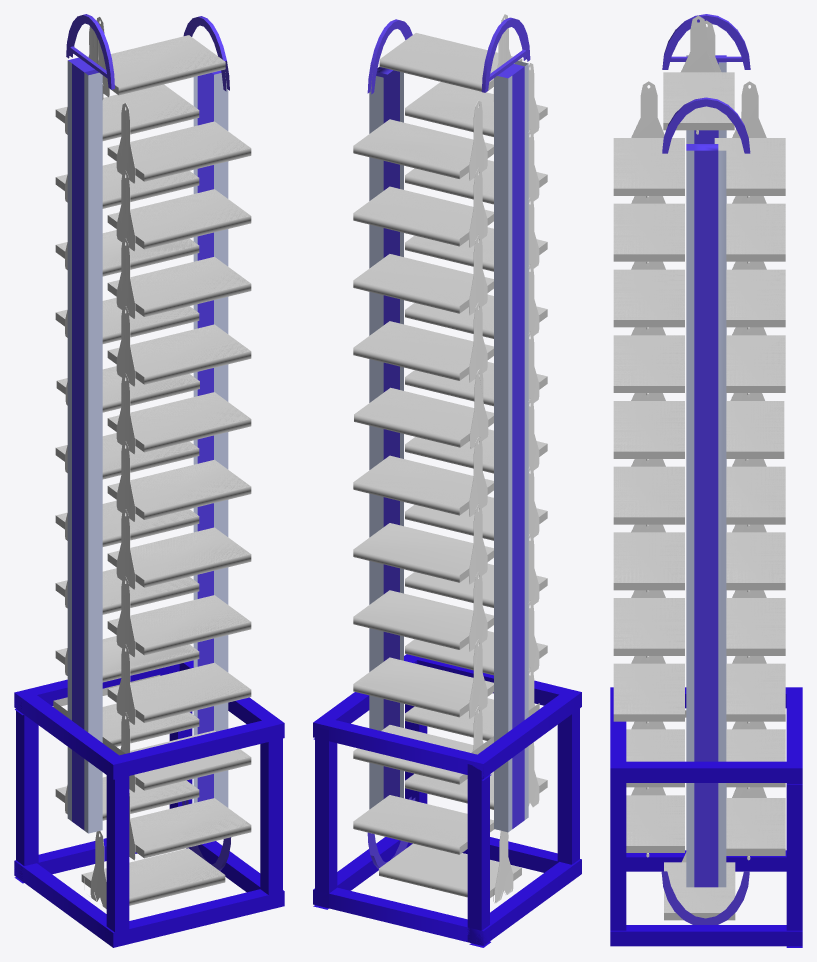
File: 3155_Tower.fbx
3 renders of one model, left to right at view 1: azimuth 30°, elevation 25°; view 2: azimuth 150°, elevation 25°; view 3: azimuth 270°, elevation 25°, orthographic. The views are drawn at different scales.
Parts seen in each view (by area): view 1: STRUCT, SHLF14, SHLF17, SHLF20, SHLF15, SHLF18, SHLF21, SHLF19, SHLF22, SHLF16, SHLF24, SHLF13 (+13 smaller); view 2: STRUCT, SHLF6, SHLF11, SHLF5, SHLF12, SHLF4, SHLF7, SHLF10, SHLF9, SHLF8, SHLF2, SHLF1 (+13 smaller); view 3: STRUCT, SHLF14, SHLF13, SHLF12, SHLF20, SHLF16, SHLF15, SHLF19, SHLF22, SHLF21, SHLF17, SHLF18 (+13 smaller).
Part boxes in pixels (x1=…): STRUCT: x1=14, y1=14, x2=284, y2=947; SHLF14: x1=107, y1=103, x2=251, y2=183; SHLF17: x1=107, y1=306, x2=251, y2=386; SHLF20: x1=107, y1=509, x2=251, y2=589; SHLF15: x1=107, y1=170, x2=251, y2=251; SHLF18: x1=107, y1=373, x2=251, y2=454; SHLF21: x1=107, y1=576, x2=251, y2=657; SHLF19: x1=107, y1=441, x2=251, y2=521; SHLF22: x1=107, y1=644, x2=251, y2=724; SHLF16: x1=107, y1=238, x2=251, y2=318; SHLF24: x1=129, y1=789, x2=251, y2=860; SHLF13: x1=96, y1=16, x2=225, y2=97; STRUCT: x1=313, y1=17, x2=581, y2=947; SHLF6: x1=353, y1=504, x2=493, y2=583; SHLF11: x1=353, y1=168, x2=493, y2=247; SHLF5: x1=353, y1=571, x2=493, y2=651; SHLF12: x1=353, y1=100, x2=493, y2=180; SHLF4: x1=353, y1=639, x2=493, y2=718; SHLF7: x1=353, y1=437, x2=493, y2=516; SHLF10: x1=353, y1=235, x2=493, y2=314; SHLF9: x1=353, y1=302, x2=493, y2=382; SHLF8: x1=354, y1=369, x2=493, y2=448; SHLF2: x1=353, y1=795, x2=494, y2=854; SHLF1: x1=379, y1=830, x2=521, y2=902; STRUCT: x1=610, y1=14, x2=802, y2=947; SHLF14: x1=613, y1=81, x2=684, y2=200; SHLF13: x1=663, y1=15, x2=734, y2=134; SHLF12: x1=714, y1=81, x2=785, y2=200; SHLF20: x1=613, y1=524, x2=684, y2=594; SHLF16: x1=613, y1=261, x2=684, y2=331; SHLF15: x1=613, y1=196, x2=684, y2=265; SHLF19: x1=613, y1=459, x2=684, y2=528; SHLF22: x1=613, y1=656, x2=684, y2=725; SHLF21: x1=613, y1=590, x2=684, y2=660; SHLF17: x1=613, y1=327, x2=684, y2=397; SHLF18: x1=613, y1=393, x2=684, y2=463.
Bounding box in the file's own units: 3.1 × 15.41 × 3.1.
